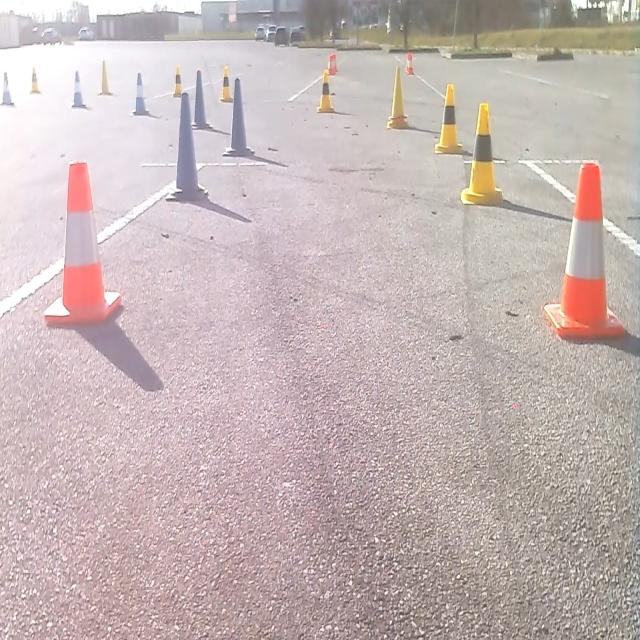blue_cone: (174, 90, 204, 197), (222, 75, 254, 158), (192, 67, 212, 129), (132, 70, 149, 116), (71, 68, 86, 108), (1, 70, 14, 106)
orange_cone: (542, 157, 626, 343), (43, 158, 122, 328), (327, 51, 338, 75), (405, 51, 414, 75)
yellow_cone: (460, 100, 503, 206), (433, 82, 462, 154), (386, 64, 409, 130), (316, 68, 334, 113), (219, 63, 233, 102), (98, 58, 112, 96), (172, 63, 184, 96), (29, 65, 41, 94)
